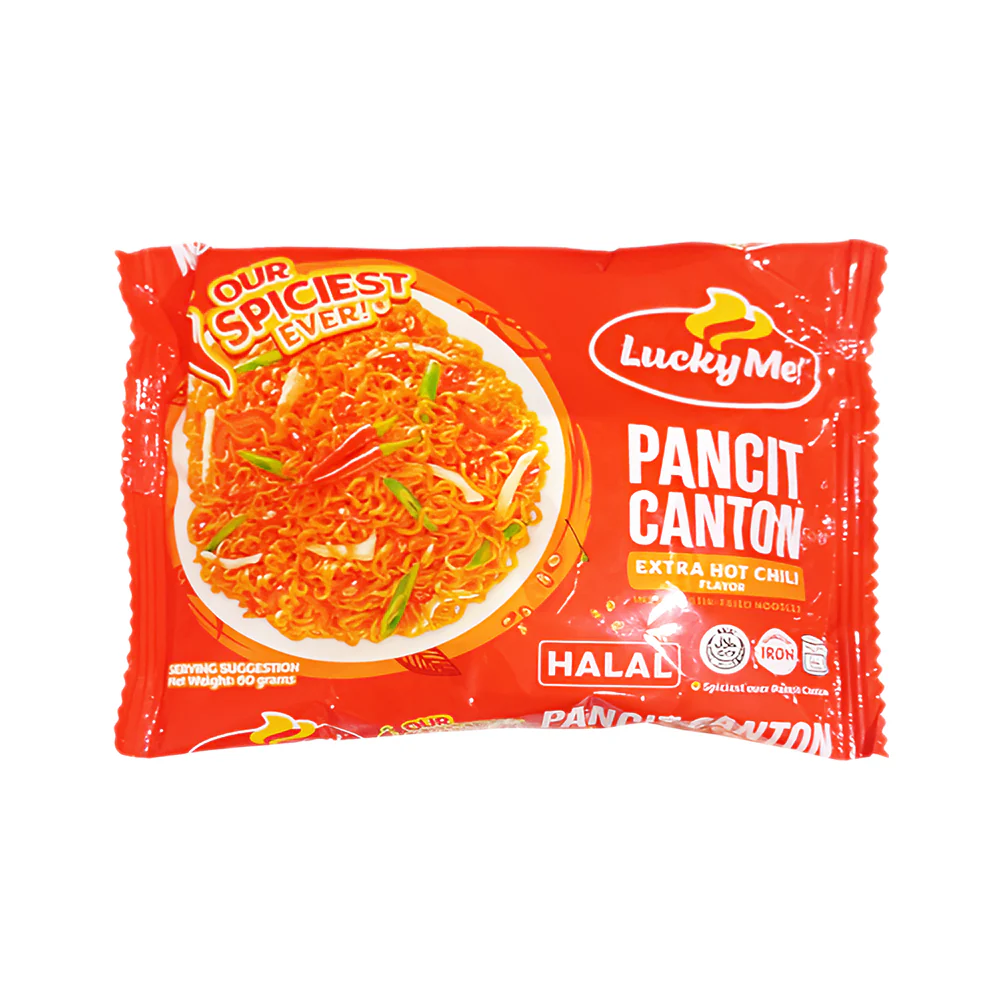non-toxic_waste: (150, 248, 851, 737)
